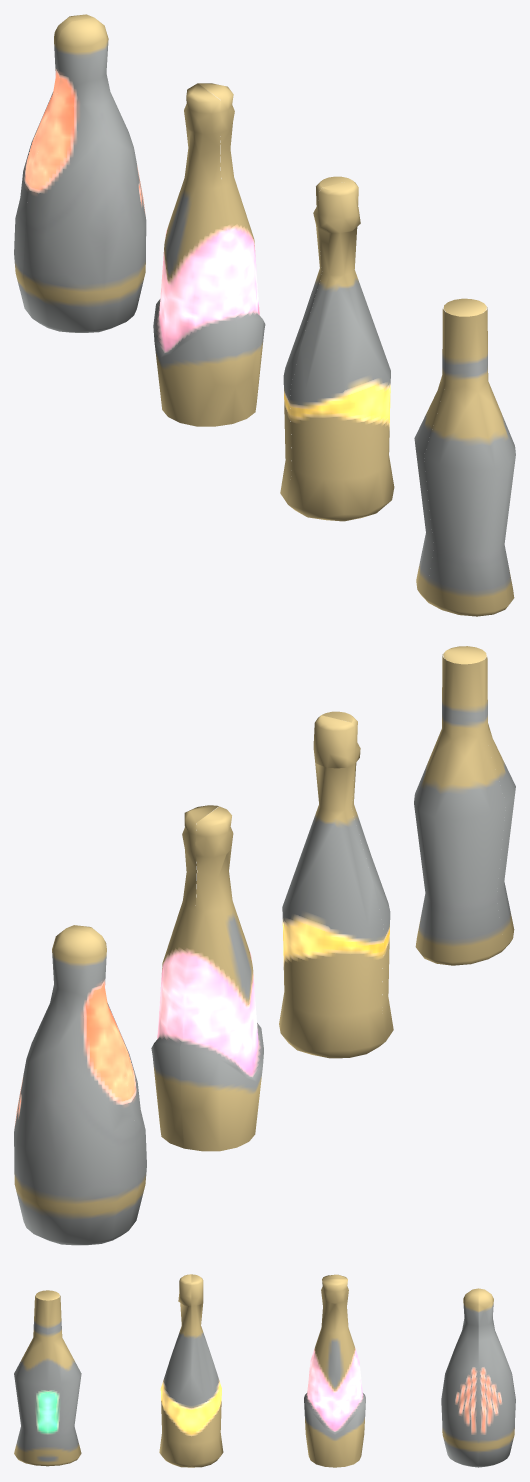
File: bar_bottles_6_a.glb
The picture shows the model from 3 angles, top to bottom: view 1: azimuth 30°, elevation 25°; view 2: azimuth 150°, elevation 25°; view 3: azimuth 270°, elevation 25°; orthographic projection. The views are drawn at different scales.
Parts seen in each view (by area): view 1: bar_bottles_6; view 2: bar_bottles_6; view 3: bar_bottles_6.
Part boxes in pixels (x1,y1,x2,y2): bar_bottles_6: (14,14,515,616); bar_bottles_6: (14,646,515,1245); bar_bottles_6: (14,1274,515,1467).
Size of the model in its own units: 0.1295 by 0.3408 by 0.8707.
1 material, 1 textured.
